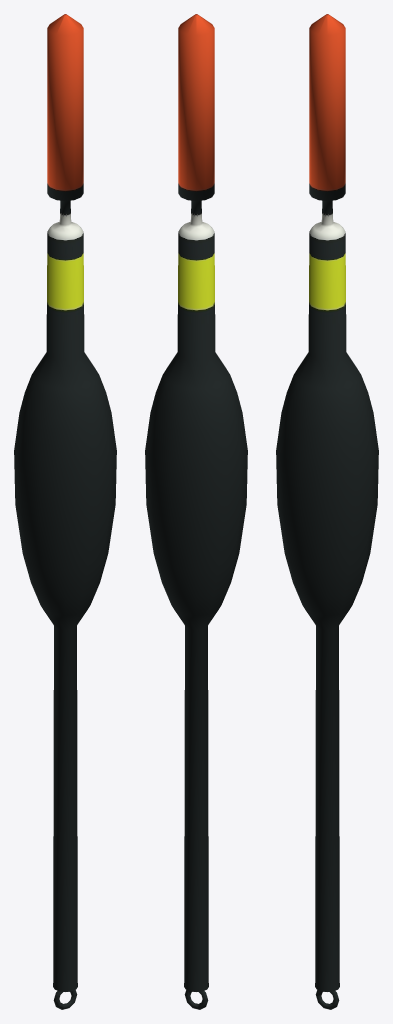
3 views of the same model, side by side, from view 1: azimuth 30°, elevation 25°; view 2: azimuth 150°, elevation 25°; view 3: azimuth 330°, elevation 25° (orthographic).
Visible parts, largest first — view 1: F43_Float; view 2: F43_Float; view 3: F43_Float.
Boxes of the visible parts, x1,y1,x2,y2 form: F43_Float: (14, 14, 116, 1009); F43_Float: (145, 14, 247, 1009); F43_Float: (276, 14, 378, 1009).
Size of the model in its own units: 1.87 by 20 by 1.87.
1 material, 1 textured.
